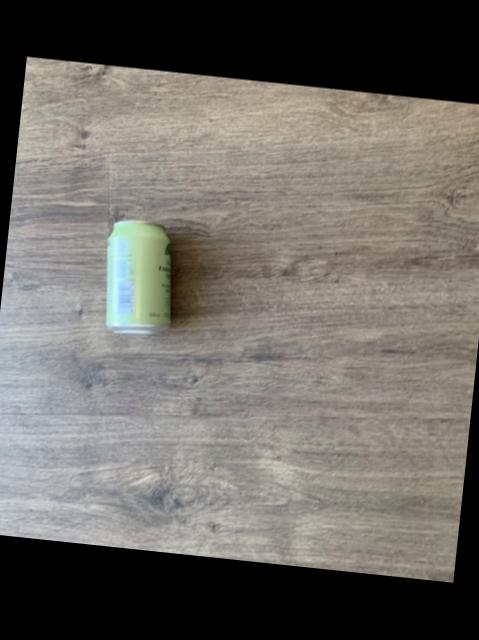metal: (107, 219, 171, 333)
